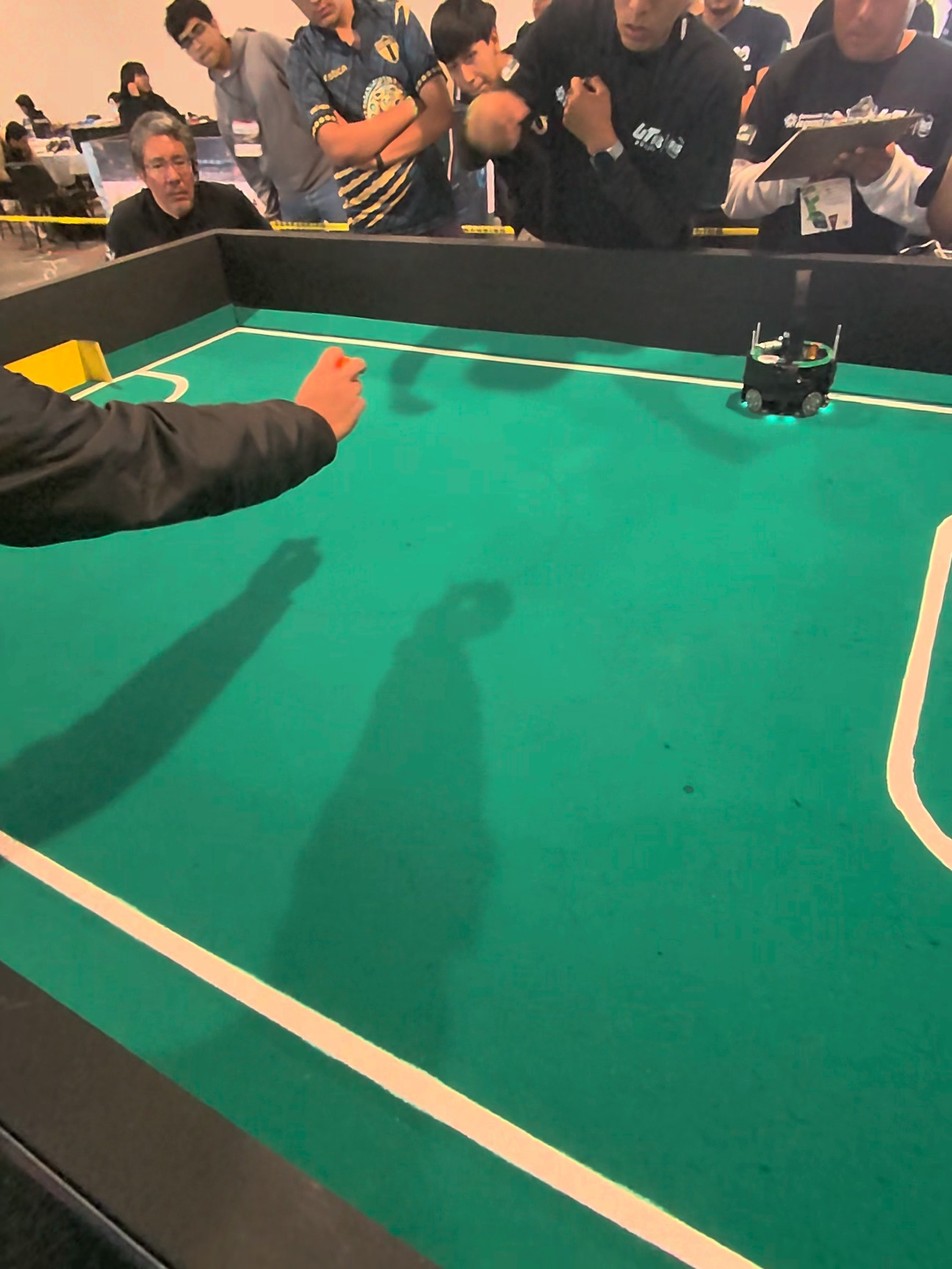Robot: (727, 279, 843, 451)
pelota: (316, 343, 366, 396)
